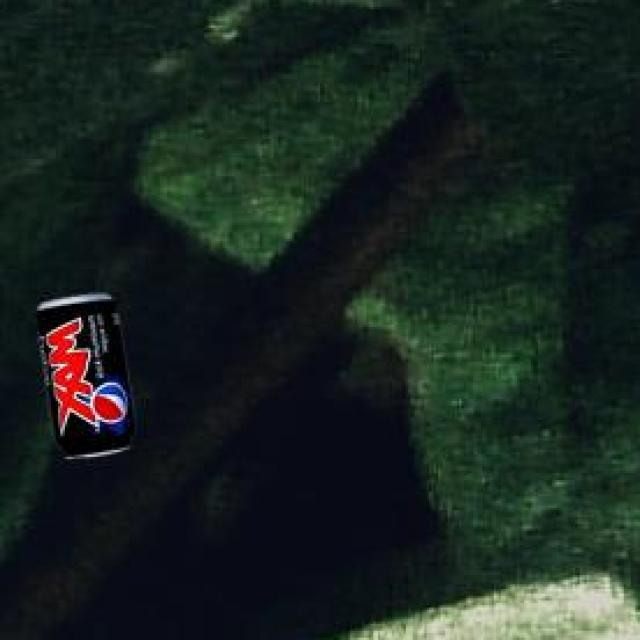logam: (34, 298, 131, 460)
